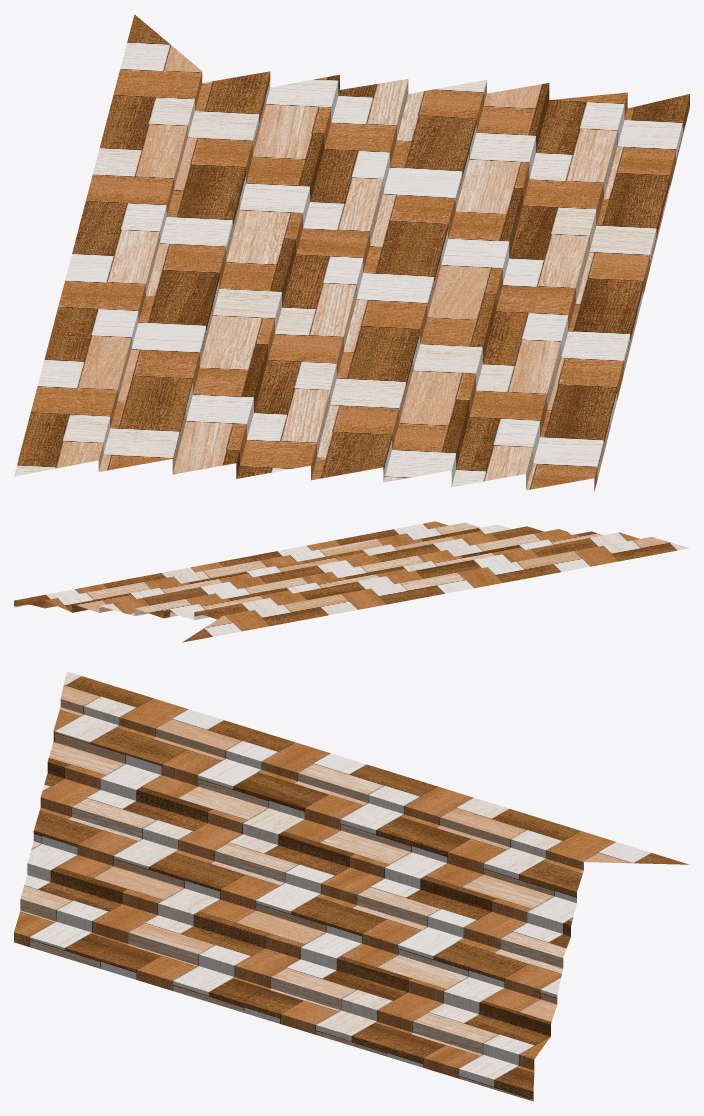
The model's file is MDL_StairsSmall.fbx.
3 views of the same model, one above another, from view 1: azimuth 30°, elevation 25°; view 2: azimuth 150°, elevation 25°; view 3: azimuth 270°, elevation 25° (orthographic). The views are drawn at different scales.
Visible parts, largest first — view 1: StairsSmall; view 2: StairsSmall; view 3: StairsSmall.
Part boxes in pixels (x1,y1,x2,y2): StairsSmall: [14, 14, 689, 491]; StairsSmall: [14, 521, 689, 642]; StairsSmall: [14, 671, 688, 1101].
Size of the model in its own units: 502 by 57.61 by 415.
